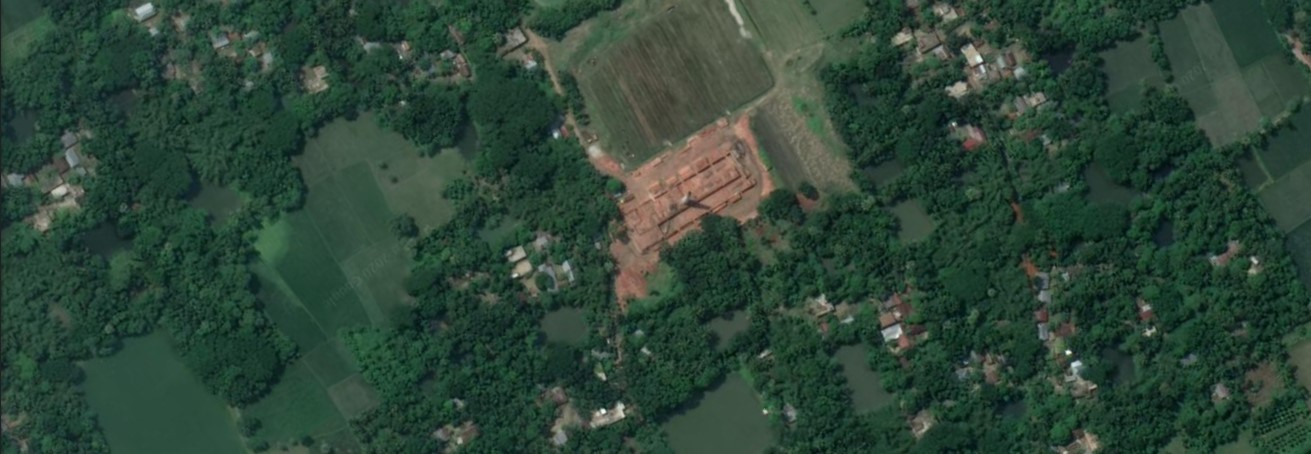kiln: (635, 157, 752, 215)
